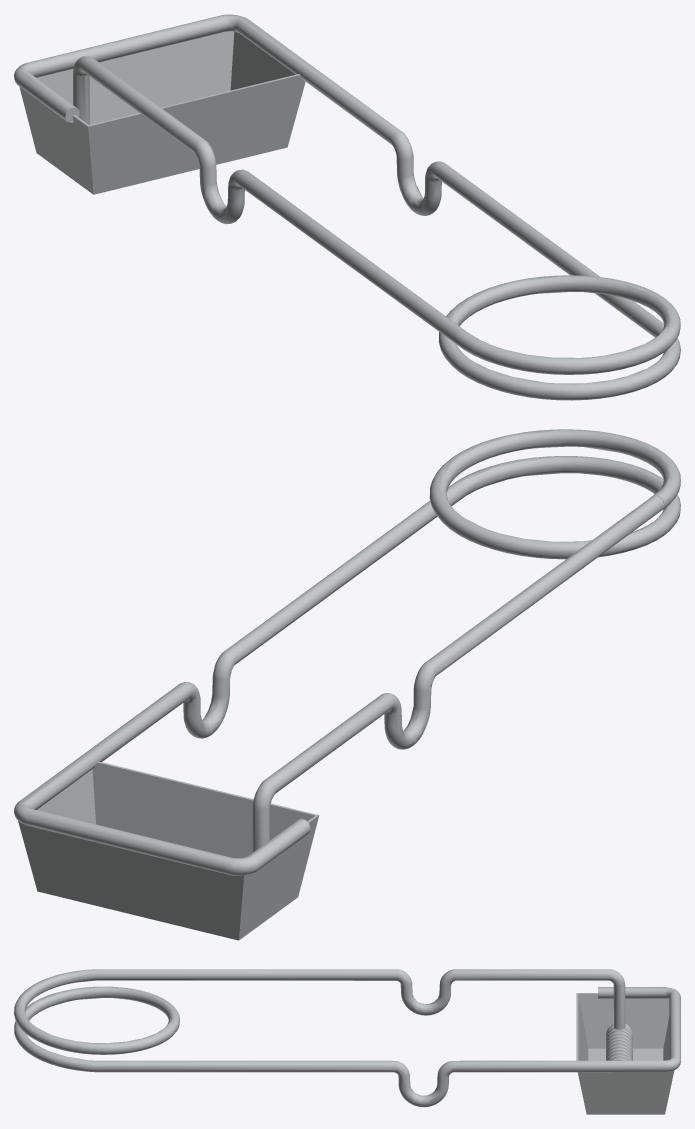
Rendered from 05-Flint spark lighter.fbx.
3 views of the same model, one above another, from view 1: azimuth 30°, elevation 25°; view 2: azimuth 150°, elevation 25°; view 3: azimuth 270°, elevation 25° (orthographic). The views are drawn at different scales.
Parts seen in each view (by area): view 1: Flint spark lighter; view 2: Flint spark lighter; view 3: Flint spark lighter, Flint spark lighter_A.
Boxes of the visible parts, x1,y1,x2,y2 form: Flint spark lighter: (14,14,680,400); Flint spark lighter: (14,429,680,940); Flint spark lighter: (14,969,680,1114); Flint spark lighter_A: (606,1023,632,1060).
Size of the model in its own units: 6.82 by 3.41 by 24.49.
1 material, 1 textured.
